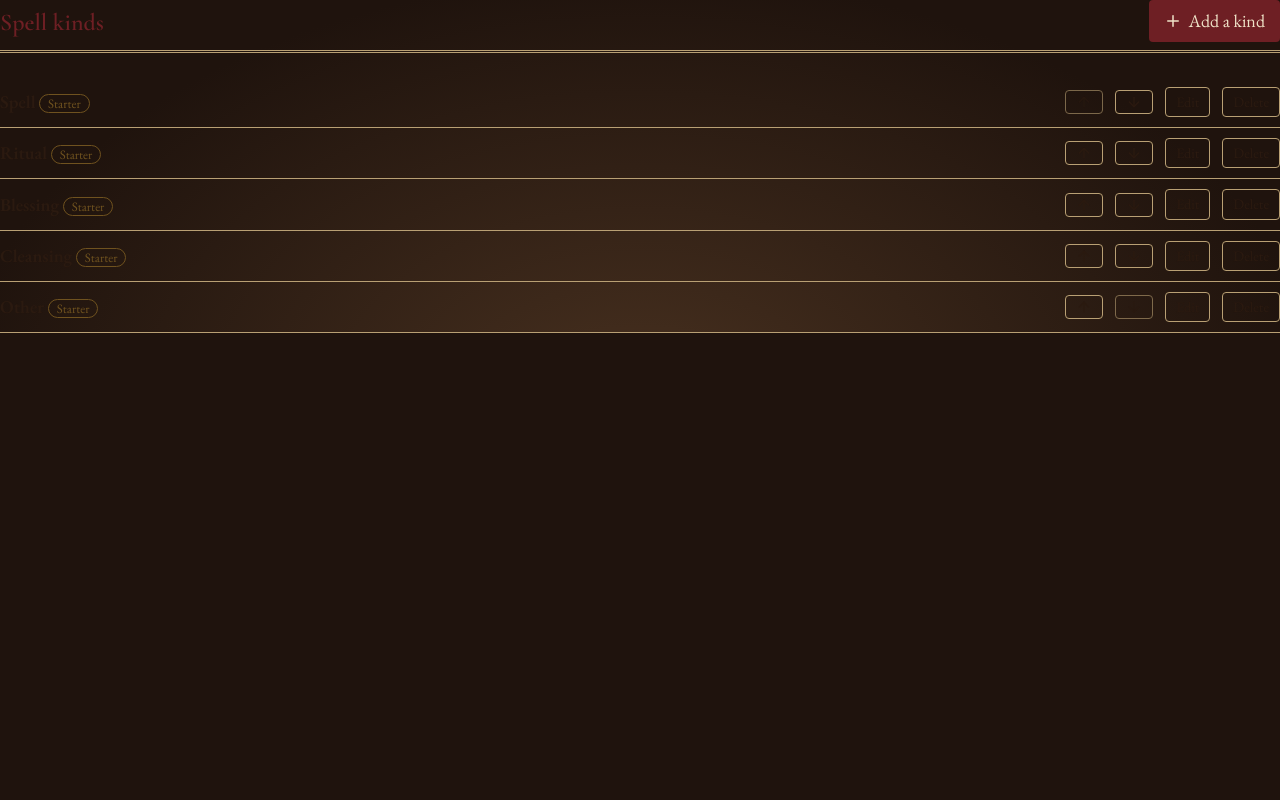
Test case: SpellKinds › shows how many spells use a kind before deleting
Click the button "Delete" in the row of "Ritual" at (1251, 153), box [1222,138,1279,168]
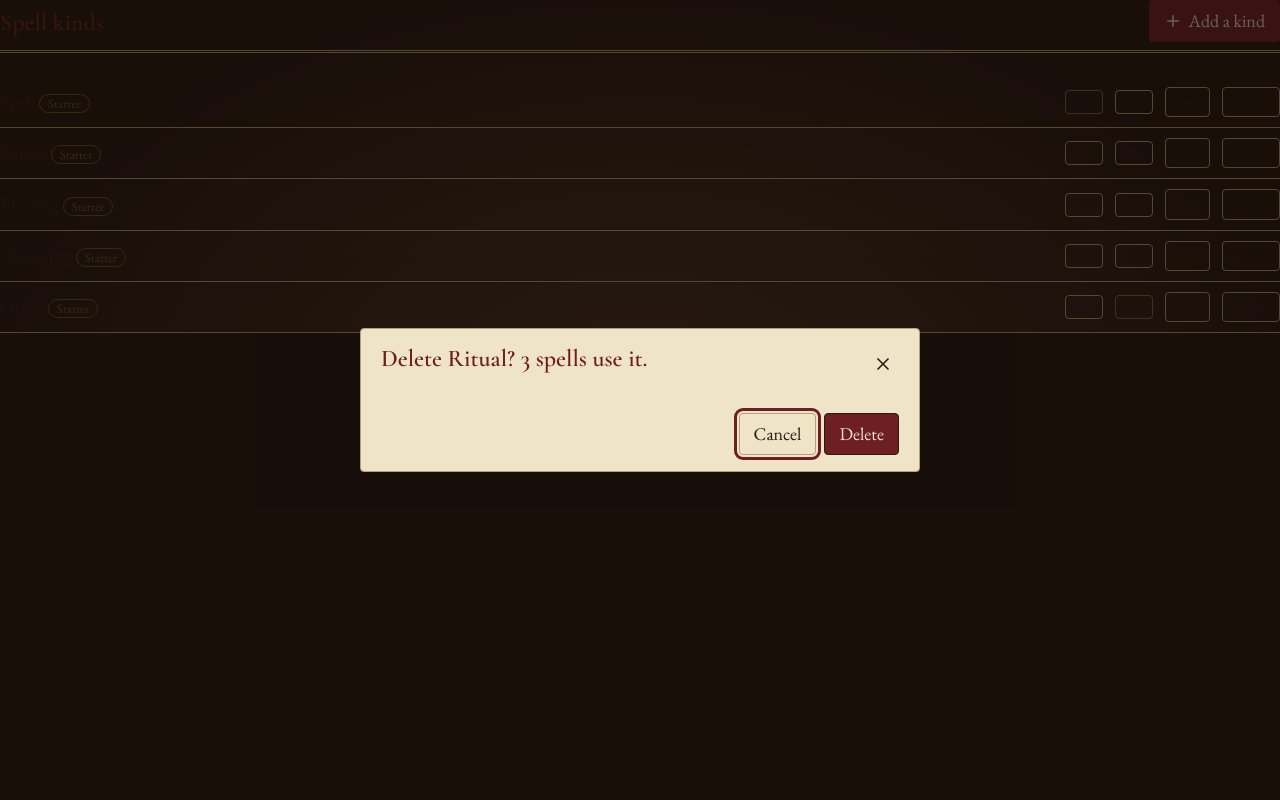
Now the heading "Delete Ritual? 3 spells use it." is shown, box [381,345,648,374]
